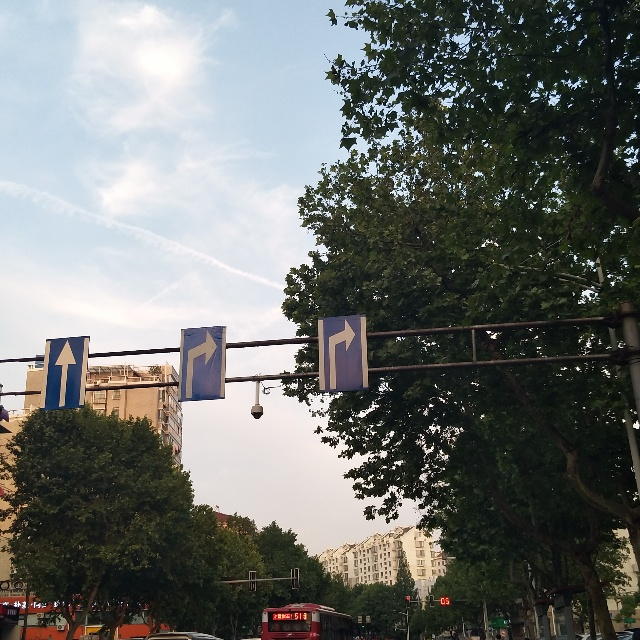right: (179, 323, 223, 405), (322, 325, 365, 392)
straight: (45, 341, 81, 407)
